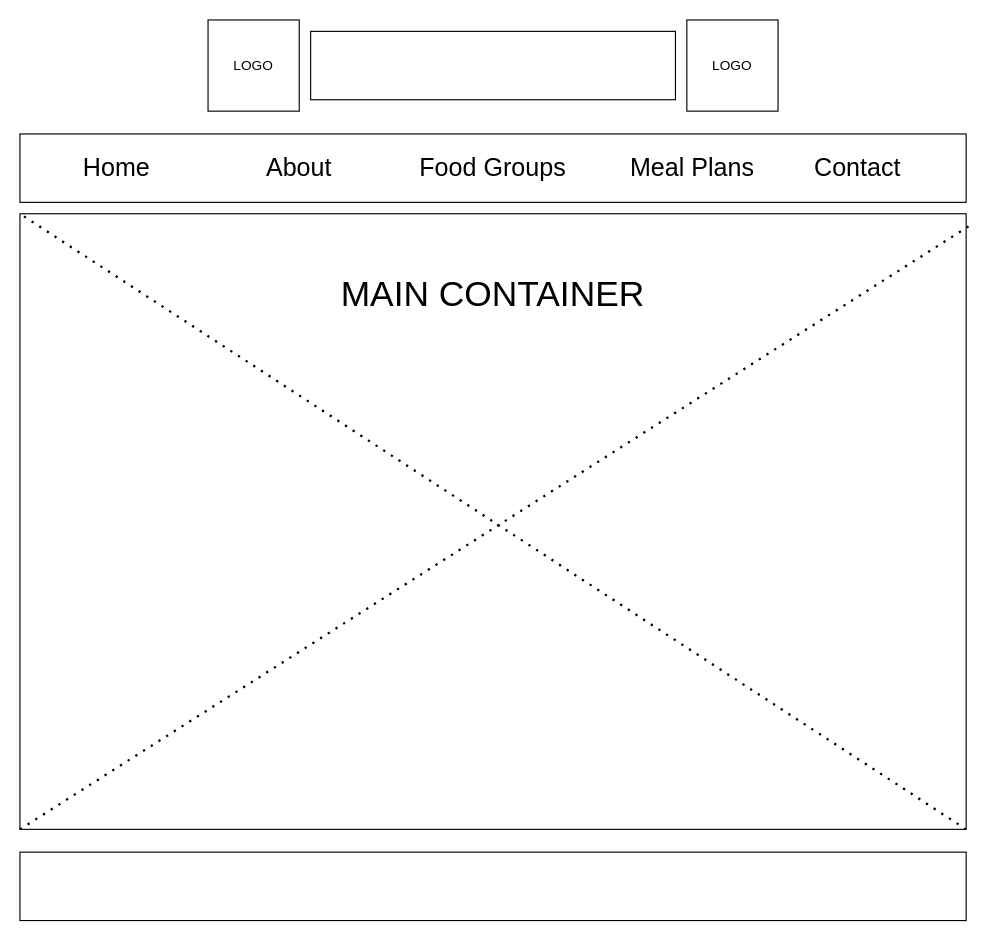
Some shapes in this 992 by 941 pixel diagram are drawn without their labels. The centre of each missing label's shape, as x and y in pixels:
"Balanced Bites" goes at point 492,65.
"Footer" goes at point 492,886.
